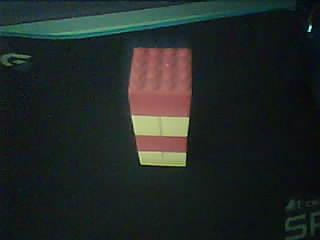lego: (127, 46, 193, 168)
